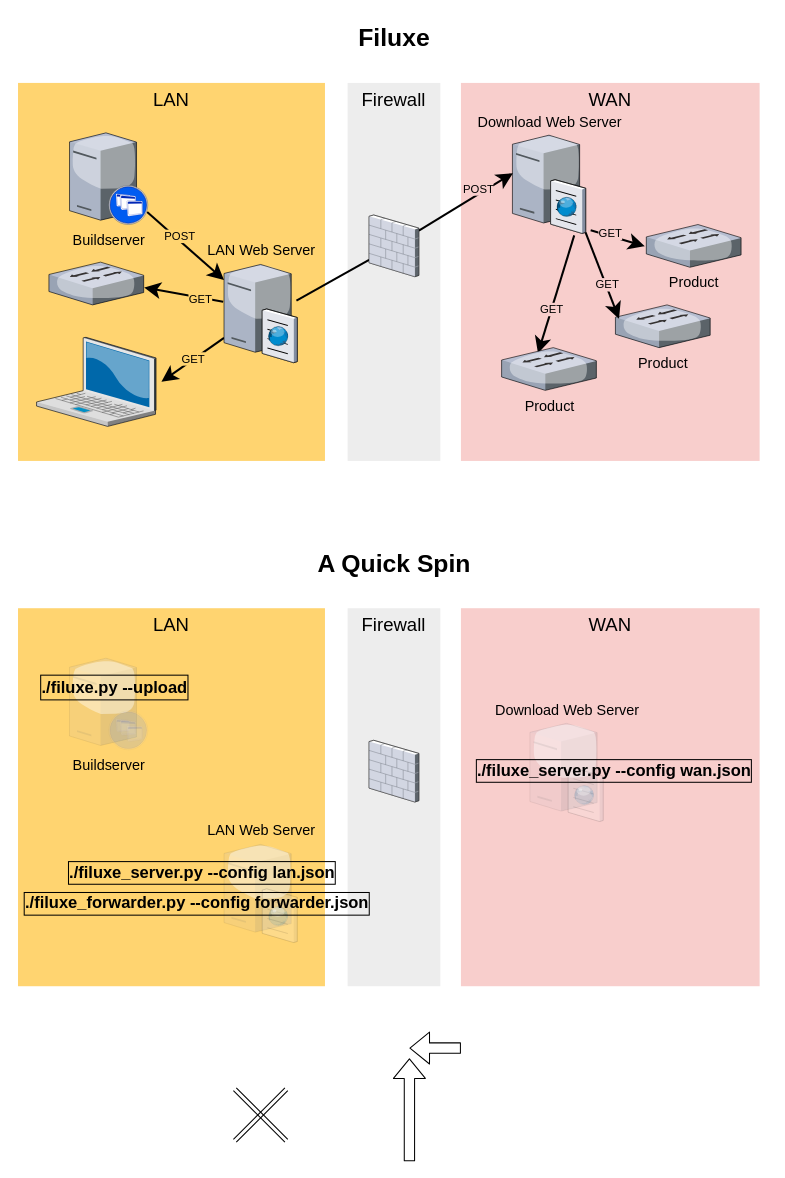
This 785x1178 diagram has some shape labels left out. Each missing label, with the centre of its shape:
"Developer" belongs at (x=96, y=381).
"Product test" belongs at (x=95, y=283).
